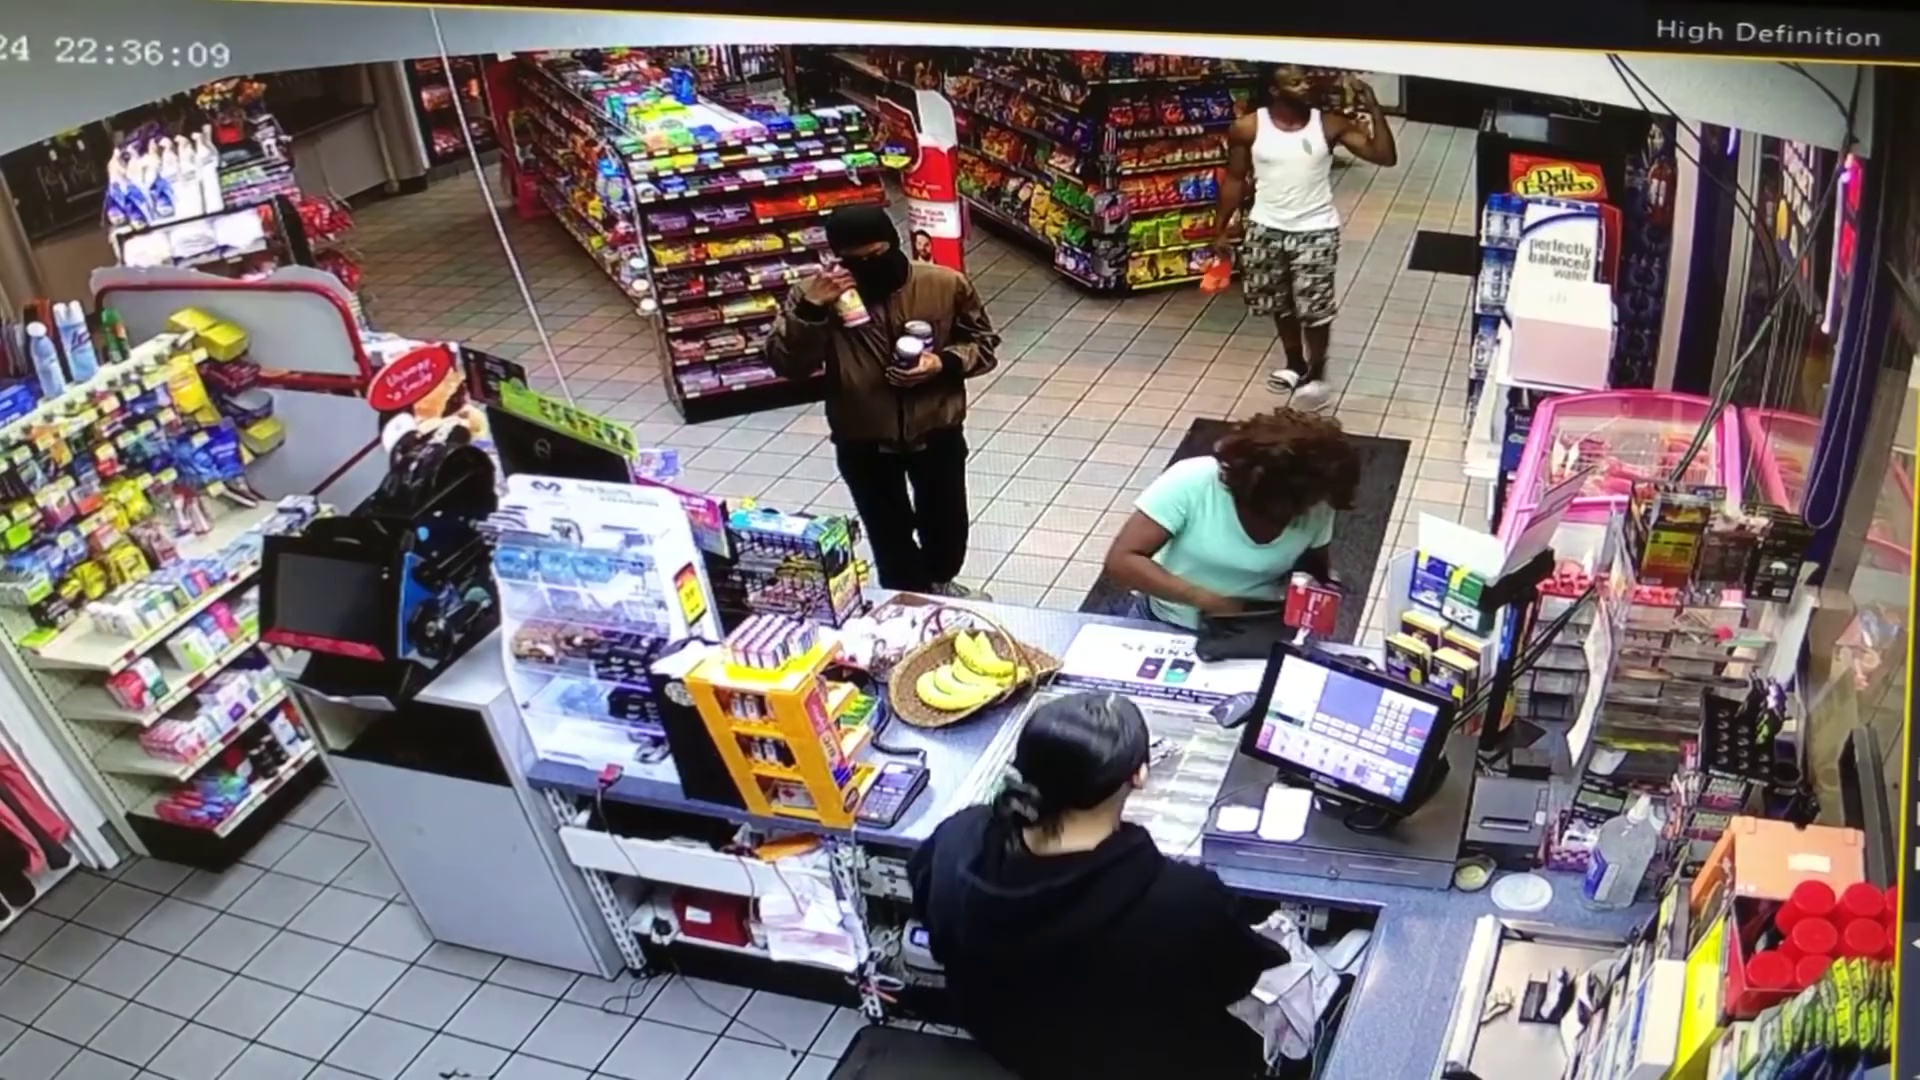face: (833, 229, 900, 288), (1267, 68, 1308, 114)
